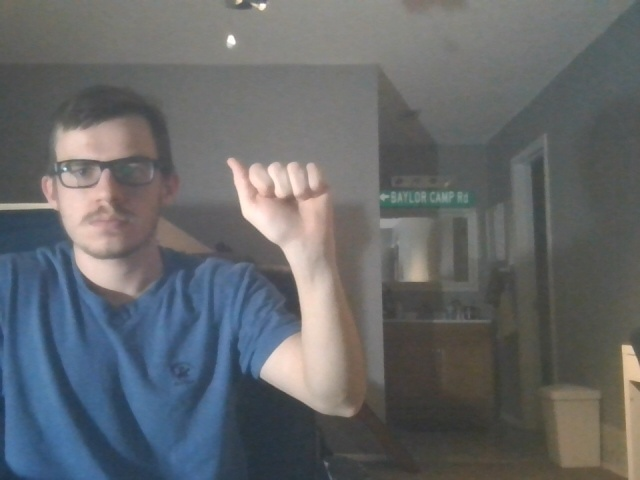A: (209, 147, 345, 247)
